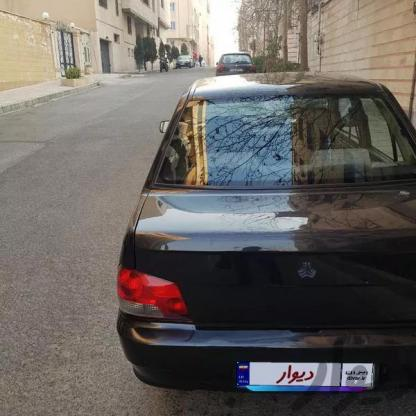Car: (118, 66, 416, 416), (219, 46, 274, 96), (174, 50, 202, 68)
